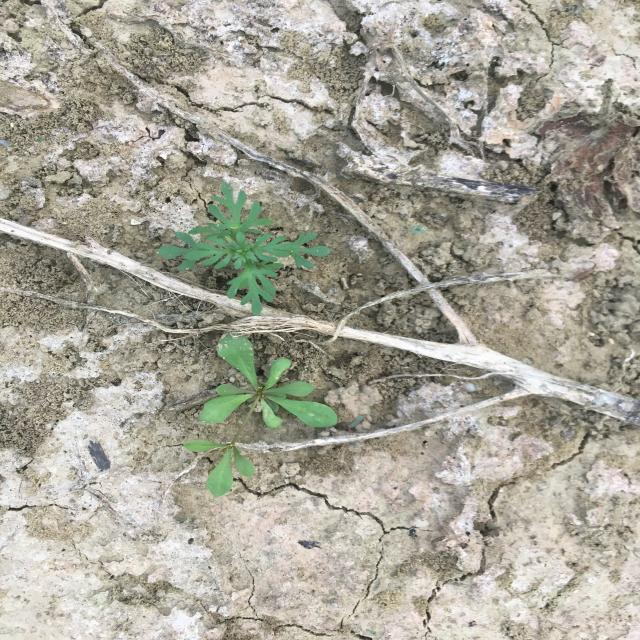Carpetweed: (182, 332, 339, 500)
Ragweed: (153, 182, 333, 318)
